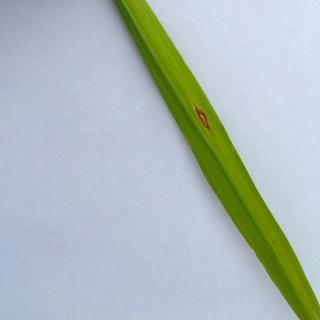Blast: (182, 85, 230, 156)
